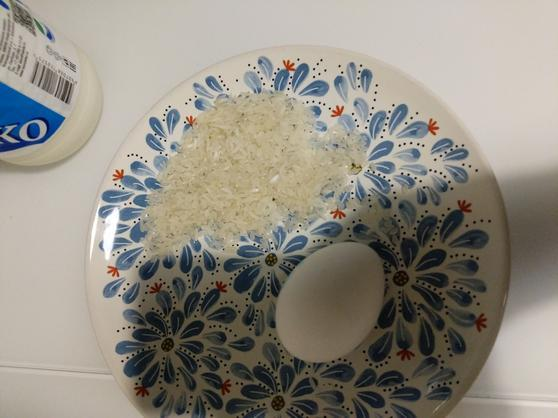egg: (262, 239, 408, 366)
rice: (108, 87, 375, 237)
